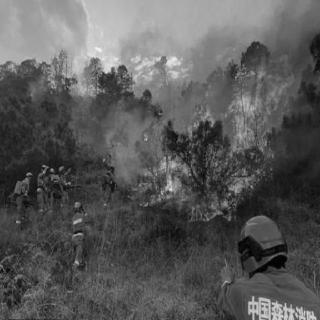Fire: (128, 51, 302, 221)
